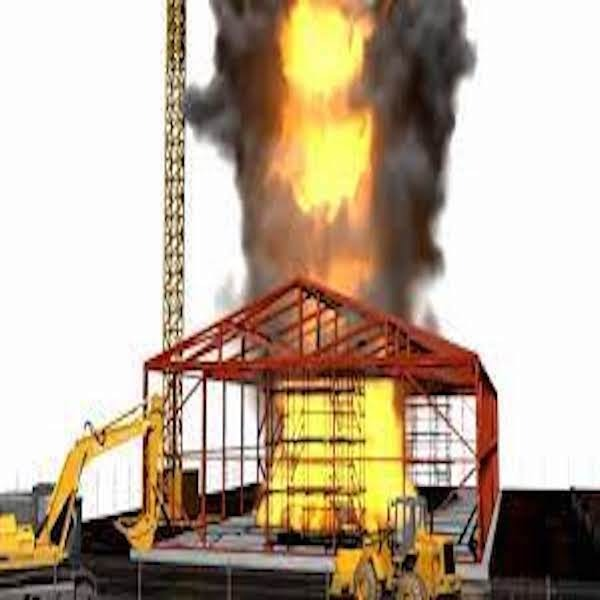fire: (240, 16, 440, 281), (276, 391, 394, 522)
